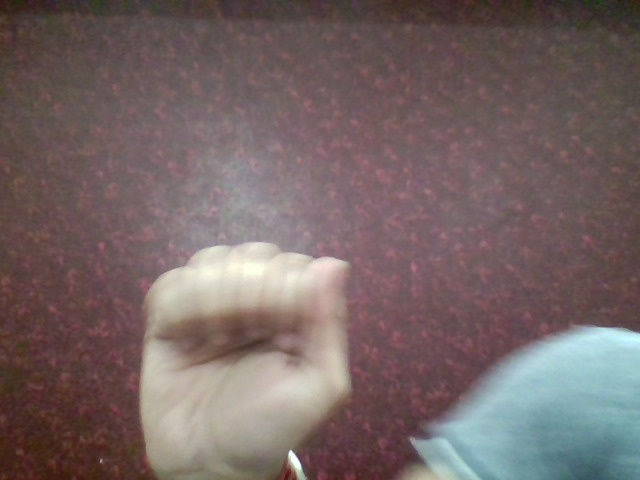a: (128, 240, 362, 480)
